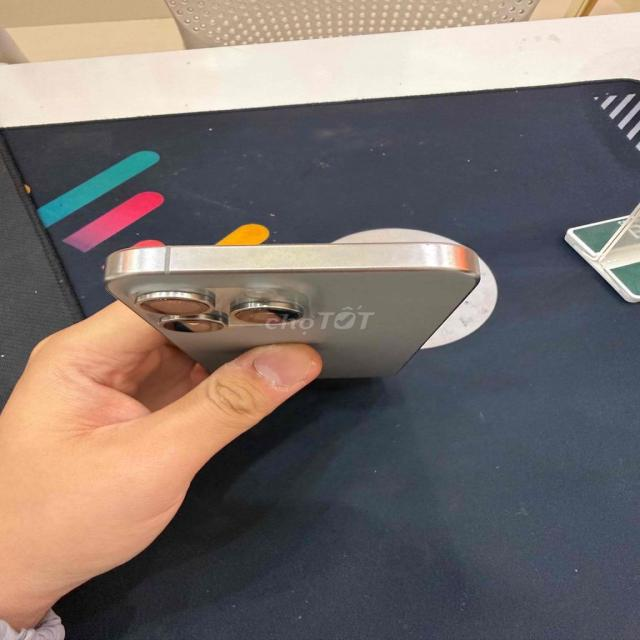gen_15: (100, 223, 477, 388)
